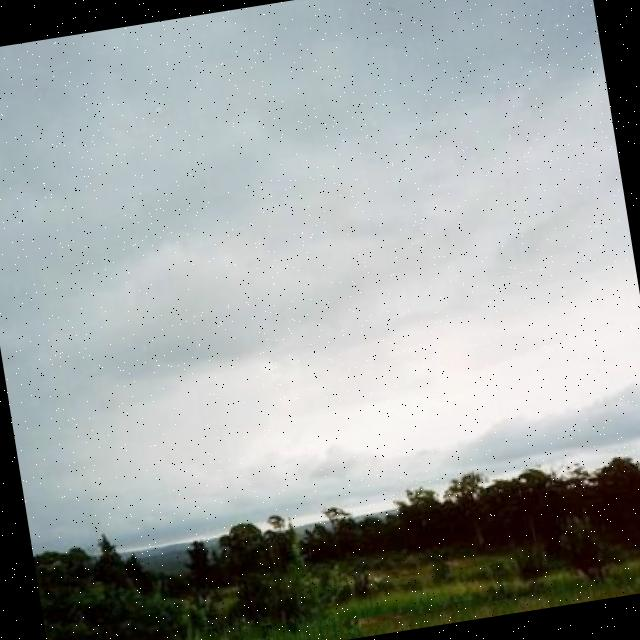Sc: (1, 1, 640, 495)
